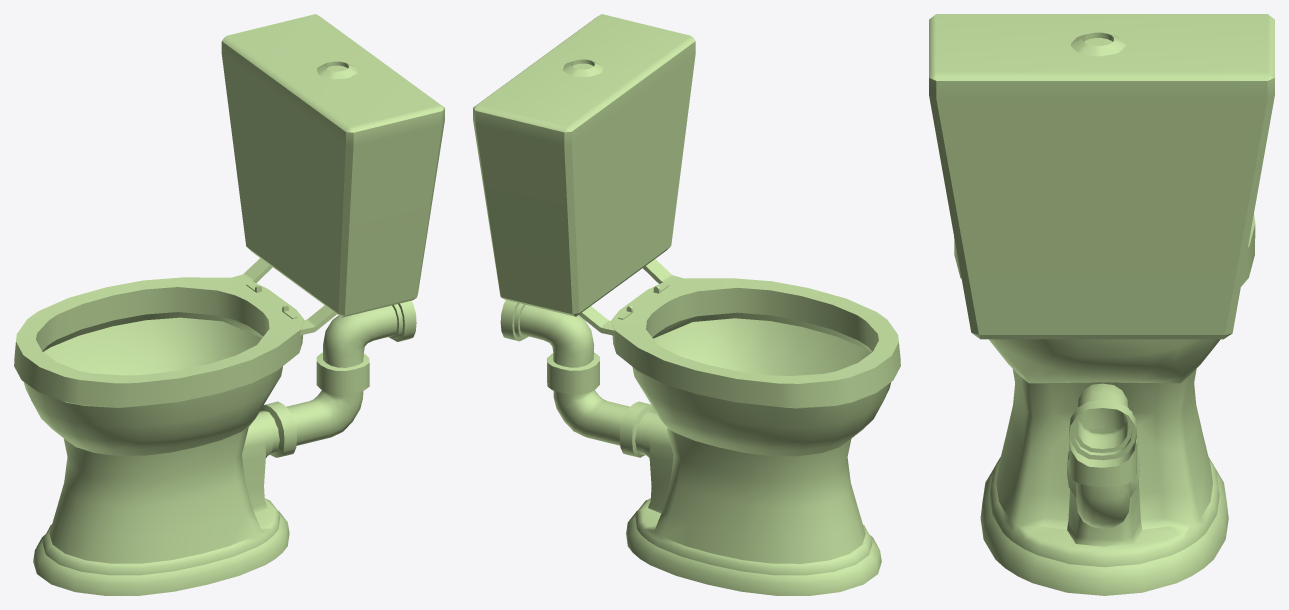
Rendered from Inodoro.fbx.
3 views of the same model, side by side, from view 1: azimuth 30°, elevation 25°; view 2: azimuth 150°, elevation 25°; view 3: azimuth 270°, elevation 25° (orthographic). The views are drawn at different scales.
Parts seen in each view (by area): view 1: Inodoro; view 2: Inodoro; view 3: Inodoro.
Part boxes in pixels (<box>): Inodoro: <box>14,14,444,595</box>; Inodoro: <box>473,14,900,595</box>; Inodoro: <box>929,14,1274,595</box>.
Bounding box in the file's own units: 0.7258 × 0.8237 × 0.4361.
